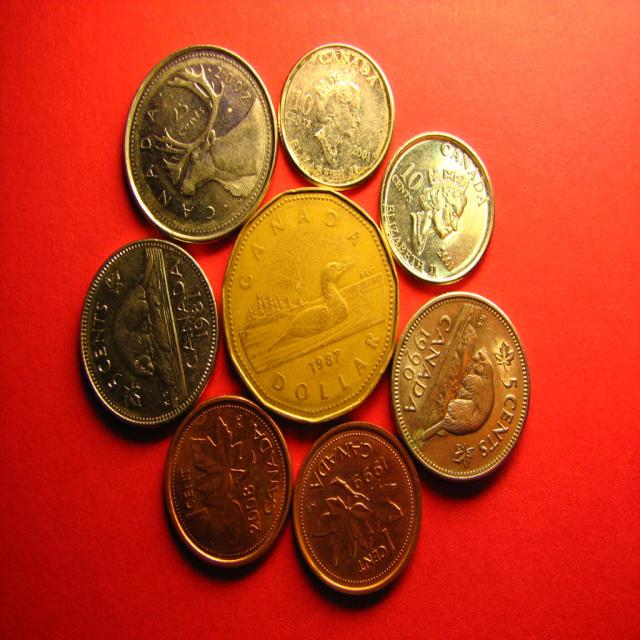Coin: (222, 184, 400, 422), (127, 40, 279, 246), (77, 241, 220, 431), (393, 290, 530, 481), (162, 393, 293, 570), (293, 421, 421, 598), (380, 129, 496, 285), (277, 43, 396, 190)
